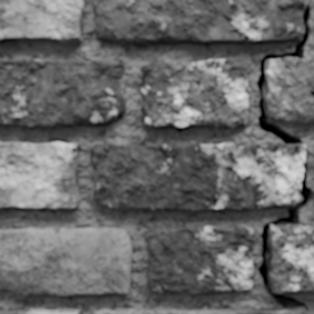brick: (90, 143, 301, 210), (93, 0, 307, 44), (0, 226, 131, 294), (0, 58, 125, 125), (141, 57, 249, 126), (147, 225, 254, 293), (0, 142, 77, 207), (0, 0, 82, 42), (263, 57, 313, 123), (269, 226, 313, 292), (93, 306, 305, 313), (0, 306, 79, 313), (297, 145, 304, 159)
crack: (241, 2, 313, 311), (70, 143, 76, 153)
